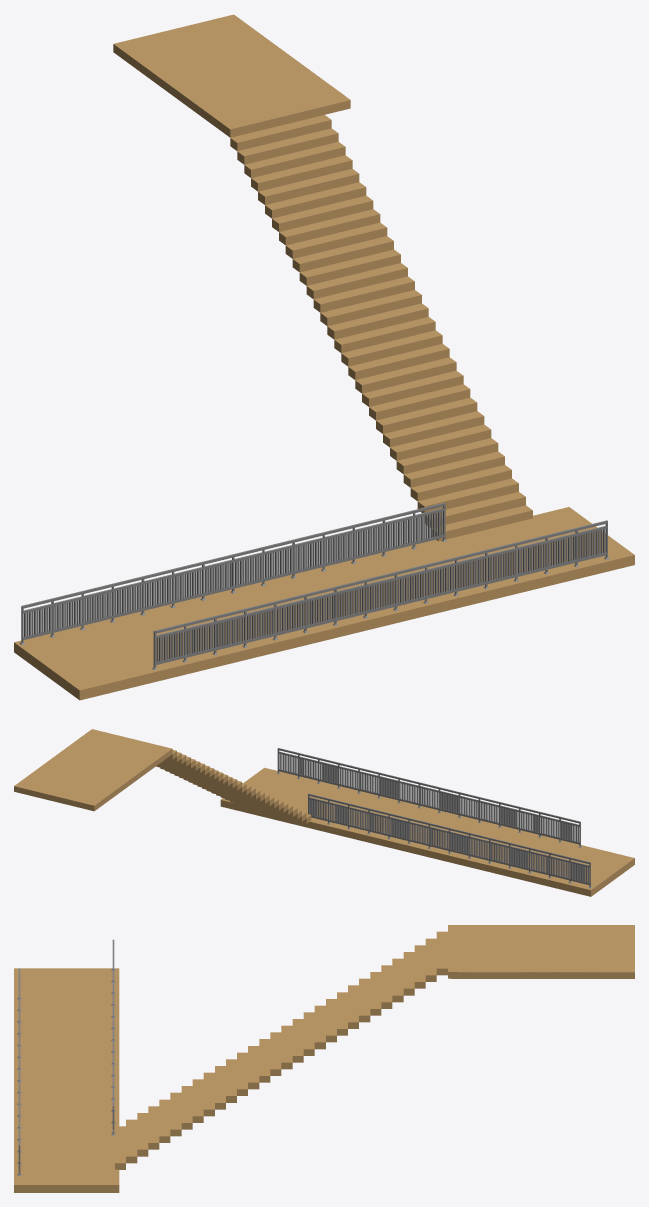
The model's file is BridgeAndStairsToBuilding_6.fbx.
3 views of the same model, one above another, from view 1: azimuth 30°, elevation 25°; view 2: azimuth 150°, elevation 25°; view 3: azimuth 270°, elevation 25° (orthographic). The views are drawn at different scales.
Parts seen in each view (by area): view 1: BridgeAndStairsToBuilding_6; view 2: BridgeAndStairsToBuilding_6; view 3: BridgeAndStairsToBuilding_6.
Part boxes in pixels (left/top/right/bottom): BridgeAndStairsToBuilding_6: left=14, top=14, right=634, bottom=700; BridgeAndStairsToBuilding_6: left=14, top=729, right=634, bottom=896; BridgeAndStairsToBuilding_6: left=14, top=925, right=634, bottom=1192.
Size of the model in its own units: 1518 by 704 by 1839.
